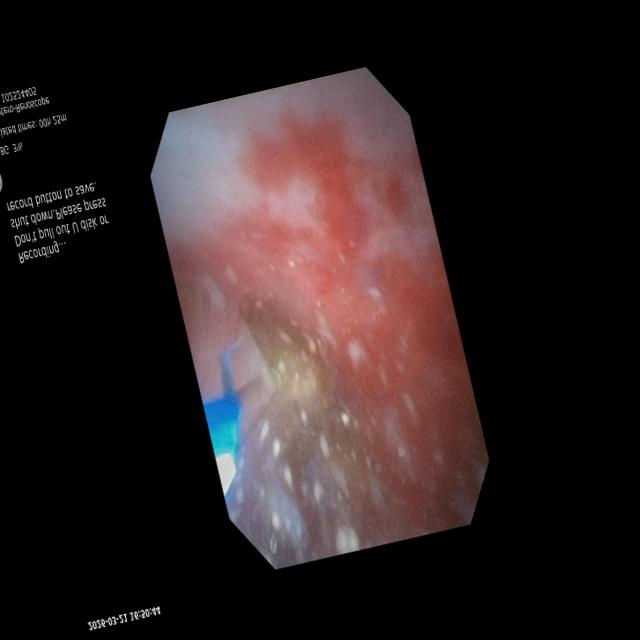laser-fibre: (236, 369, 278, 443)
stone-new: (241, 302, 329, 404)
